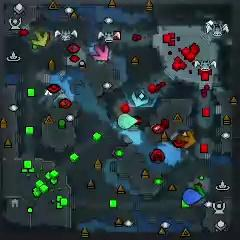p1: (184, 189, 203, 203)
p2: (118, 113, 139, 130)
x1: (94, 46, 110, 62)
x2: (31, 31, 49, 47)
x3: (131, 91, 148, 107)
x4: (194, 184, 206, 200)
x5: (180, 131, 196, 149)
